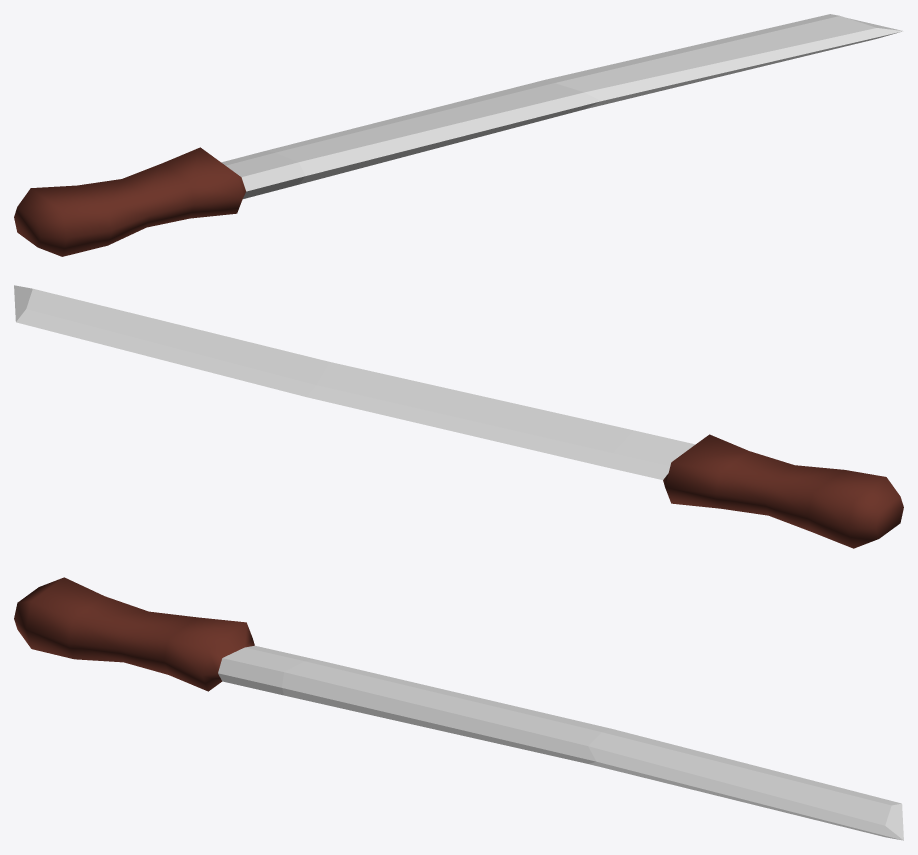
Rendered from LowPolyShortSword.fbx.
The picture shows the model from 3 angles, top to bottom: view 1: azimuth 30°, elevation 25°; view 2: azimuth 150°, elevation 25°; view 3: azimuth 330°, elevation 25°; orthographic projection. The views are drawn at different scales.
Visible parts, largest first — view 1: ShortSword; view 2: ShortSword; view 3: ShortSword.
Boxes of the visible parts, x1=… form: ShortSword: x1=14, y1=14, x2=903, y2=256; ShortSword: x1=14, y1=285, x2=903, y2=548; ShortSword: x1=14, y1=577, x2=903, y2=840.
Size of the model in its own units: 401 by 20.41 by 39.24.
